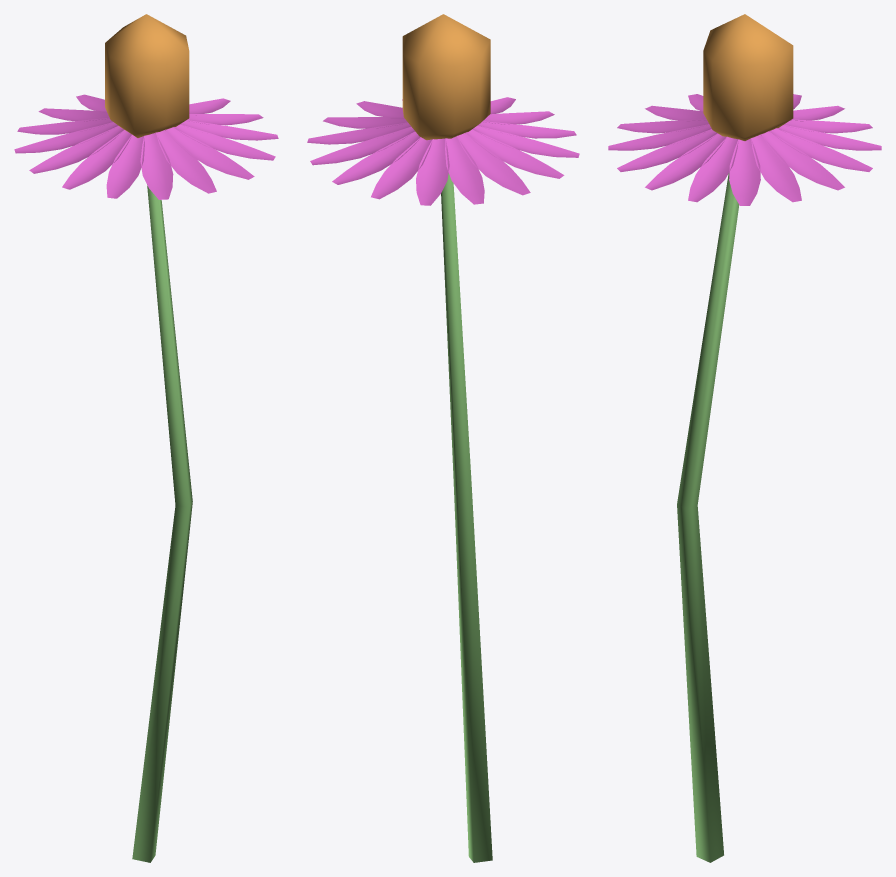
The model's file is flower_purple_coneflower.glb.
3 views of the same model, side by side, from view 1: azimuth 30°, elevation 25°; view 2: azimuth 150°, elevation 25°; view 3: azimuth 270°, elevation 25° (orthographic). The views are drawn at different scales.
Parts seen in each view (by area): view 1: Flora_Echinacea; view 2: Flora_Echinacea; view 3: Flora_Echinacea.
Part boxes in pixels (x1,y1,x2,y2): Flora_Echinacea: [14, 14, 278, 862]; Flora_Echinacea: [307, 14, 579, 862]; Flora_Echinacea: [608, 14, 881, 862].
Bounding box in the file's own units: 0.2371 × 0.816 × 0.2371.
